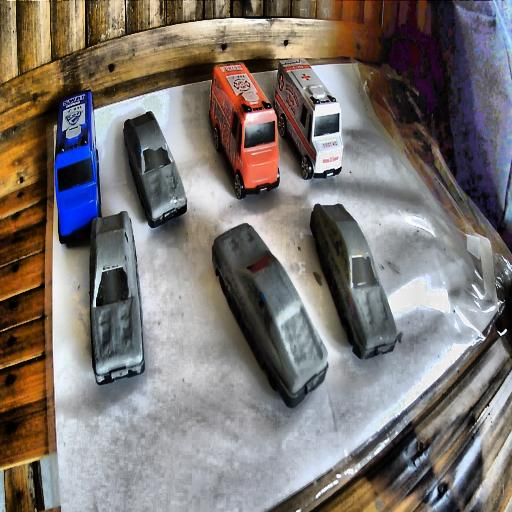ambulance: (276, 56, 341, 179)
fire_truck: (209, 61, 282, 197)
normal_car: (214, 223, 326, 406), (312, 203, 400, 360), (88, 211, 146, 386), (123, 111, 187, 229)
police car: (52, 87, 102, 245)
